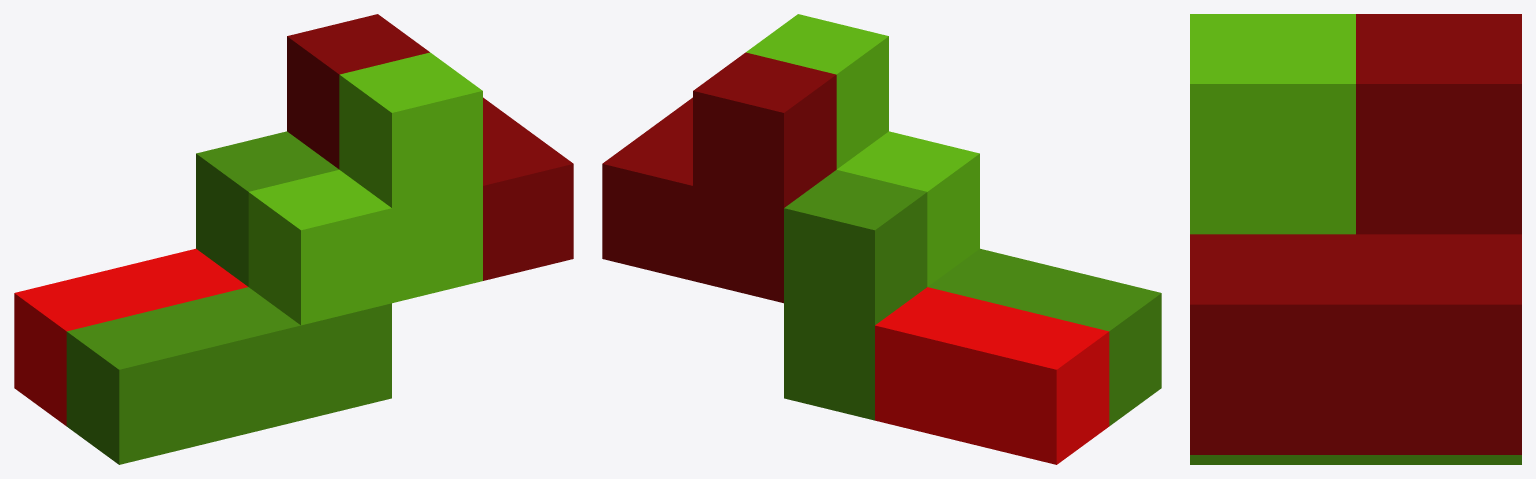
The picture shows the model from 3 angles, left to right: view 1: azimuth 30°, elevation 25°; view 2: azimuth 150°, elevation 25°; view 3: azimuth 270°, elevation 25°; orthographic projection. The views are drawn at different scales.
Visible parts, largest first — view 1: mergedBlocks(Clone); view 2: mergedBlocks(Clone); view 3: mergedBlocks(Clone).
Boxes of the visible parts, x1=… form: mergedBlocks(Clone): x1=14, y1=14, x2=573, y2=464; mergedBlocks(Clone): x1=602, y1=14, x2=1161, y2=464; mergedBlocks(Clone): x1=1190, y1=14, x2=1521, y2=464.
Size of the model in its own units: 5 by 3 by 2.
4 materials, 4 textured.
